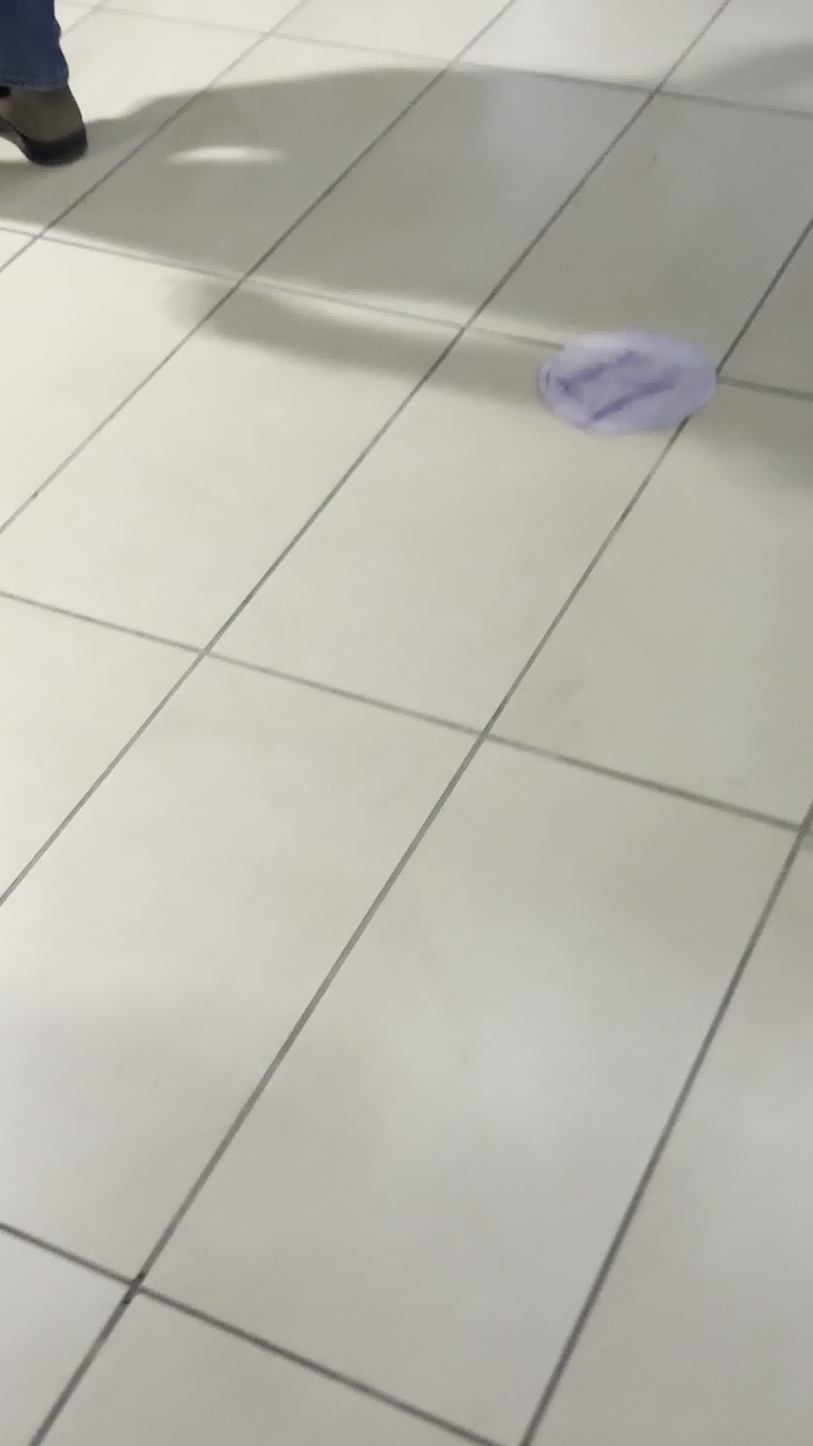Target: (537, 331, 717, 438)
